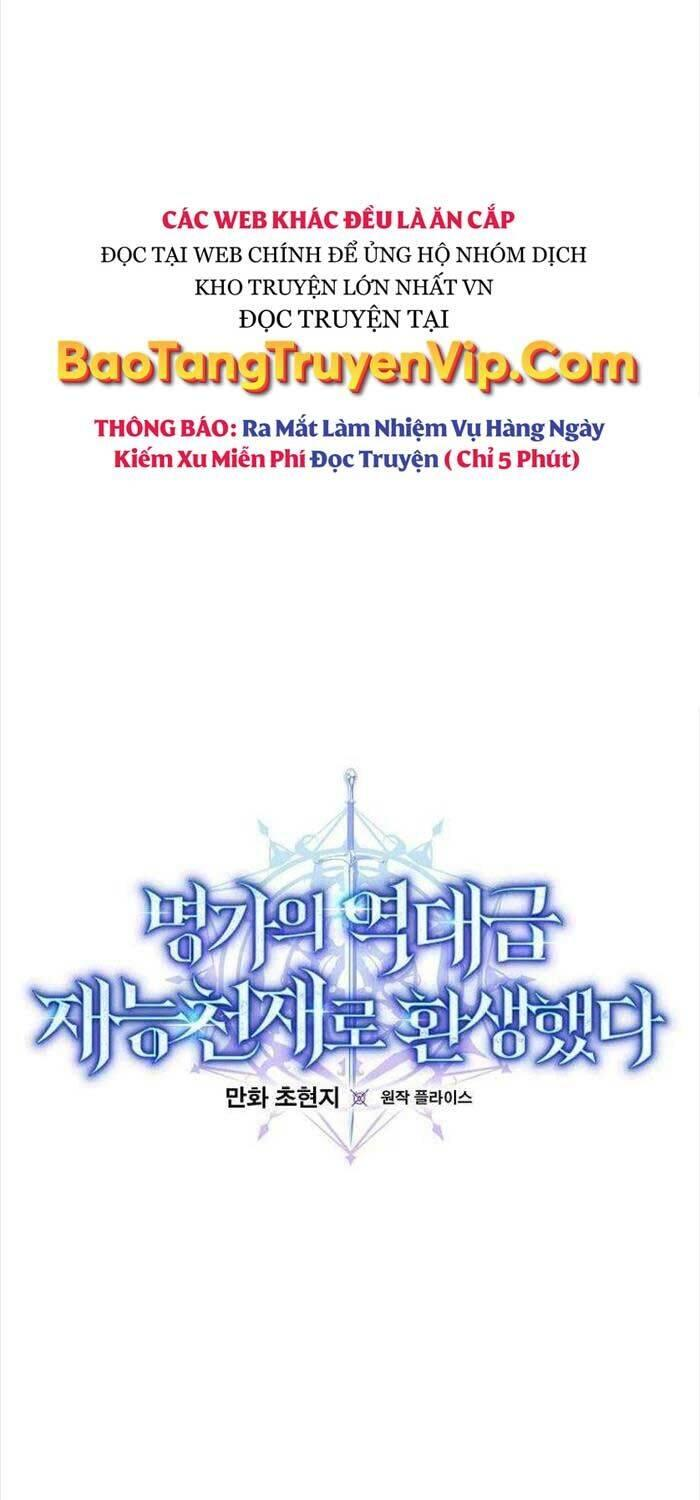quangcao: (58, 204, 640, 470)
